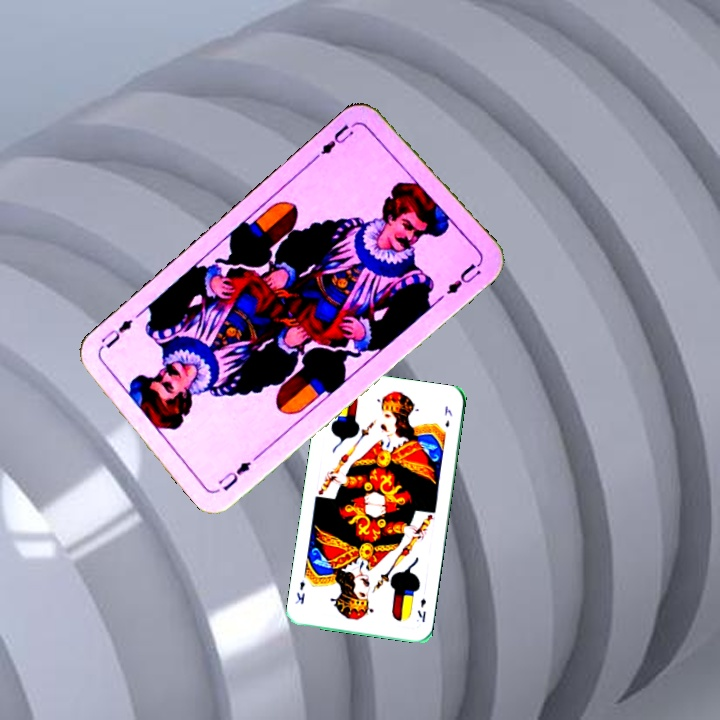EK: (413, 594, 428, 625)
EU: (310, 119, 360, 162), (214, 457, 254, 494)
